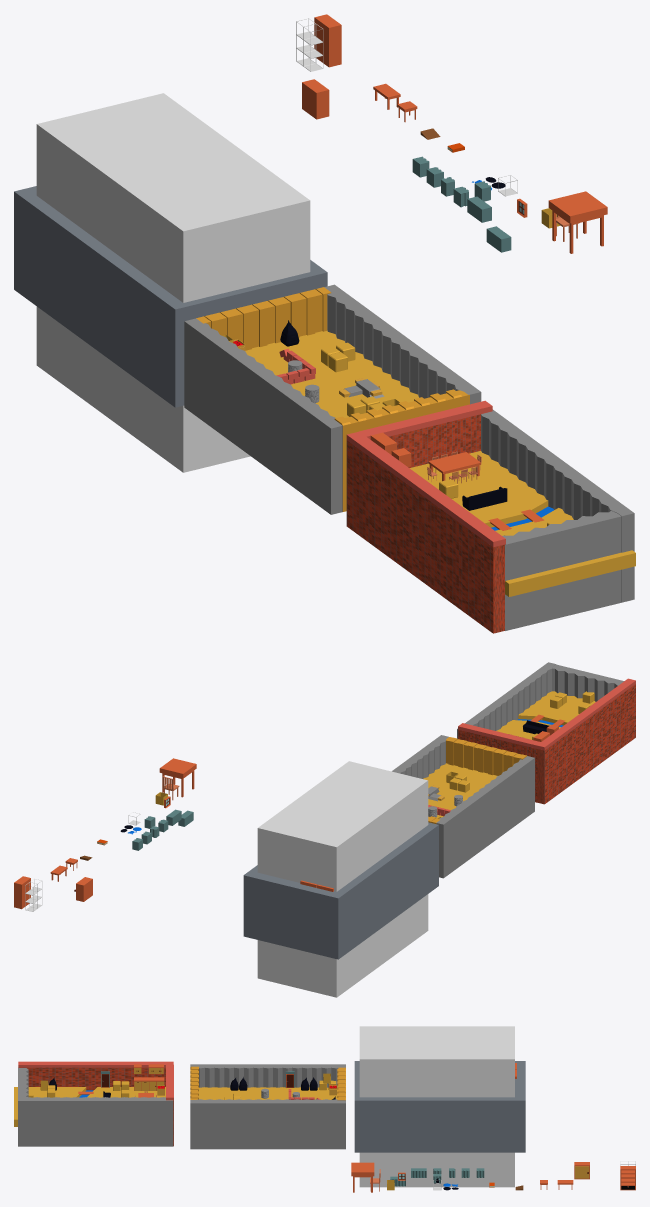
The model's file is LevelsWIll.fbx.
3 views of the same model, one above another, from view 1: azimuth 30°, elevation 25°; view 2: azimuth 150°, elevation 25°; view 3: azimuth 270°, elevation 25° (orthographic). The views are drawn at different scales.
Parts seen in each view (by area): view 1: Cube.002, Cube.001, Cube.007, Cube.040, Cube.042, Cube.041, Cube.033, Cube.008, Cube.006, Cube.010, Cube.043, Cube.046 (+5 smaller); view 2: Cube.002, Cube.001, Cube.007, Cube.040, Cube.041, Cube.009, Cube.033, Cube.042, Cube.006, Cube.008, Cube.046, Cube.043 (+2 smaller); view 3: Cube.002, Cube.001, Cube.008, Cube.041, Cube.007, Cube.040, Cube.006, Cube.033, Cube.046, Table3x3?Large, BookCase, Cube.042 (+4 smaller).
Part boxes in pixels (<box>): Cube.002: <box>36,93,310,472</box>; Cube.001: <box>14,186,327,407</box>; Cube.007: <box>184,318,342,514</box>; Cube.040: <box>346,440,505,633</box>; Cube.042: <box>502,511,621,630</box>; Cube.041: <box>481,409,634,602</box>; Cube.033: <box>409,451,635,596</box>; Cube.008: <box>324,284,481,404</box>; Cube.006: <box>245,330,418,417</box>; Cube.010: <box>196,287,331,350</box>; Cube.043: <box>389,414,480,467</box>; Cube.046: <box>346,432,505,547</box>; Cube.002: <box>257,761,428,997</box>; Cube.001: <box>243,822,438,959</box>; Cube.007: <box>436,756,534,878</box>; Cube.040: <box>537,684,635,804</box>; Cube.041: <box>457,662,555,738</box>; Cube.009: <box>446,737,526,775</box>; Cube.033: <box>496,691,595,739</box>; Cube.042: <box>552,664,624,701</box>; Cube.006: <box>423,763,497,818</box>; Cube.008: <box>392,735,448,778</box>; Cube.046: <box>537,678,635,750</box>; Cube.043: <box>458,729,537,802</box>; Cube.002: <box>359,1026,514,1187</box>; Cube.001: <box>354,1061,525,1152</box>; Cube.008: <box>190,1099,345,1149</box>; Cube.041: <box>18,1097,173,1146</box>; Cube.007: <box>190,1064,345,1087</box>; Cube.040: <box>18,1067,165,1090</box>; Cube.006: <box>199,1087,337,1099</box>; Cube.033: <box>14,1087,165,1126</box>; Cube.046: <box>18,1061,173,1067</box>; Table3x3?Large: <box>351,1162,374,1192</box>; BookCase: <box>620,1166,635,1190</box>; Cube.042: <box>18,1068,28,1097</box>.
Size of the model in its own units: 6764 by 3635 by 15995.
